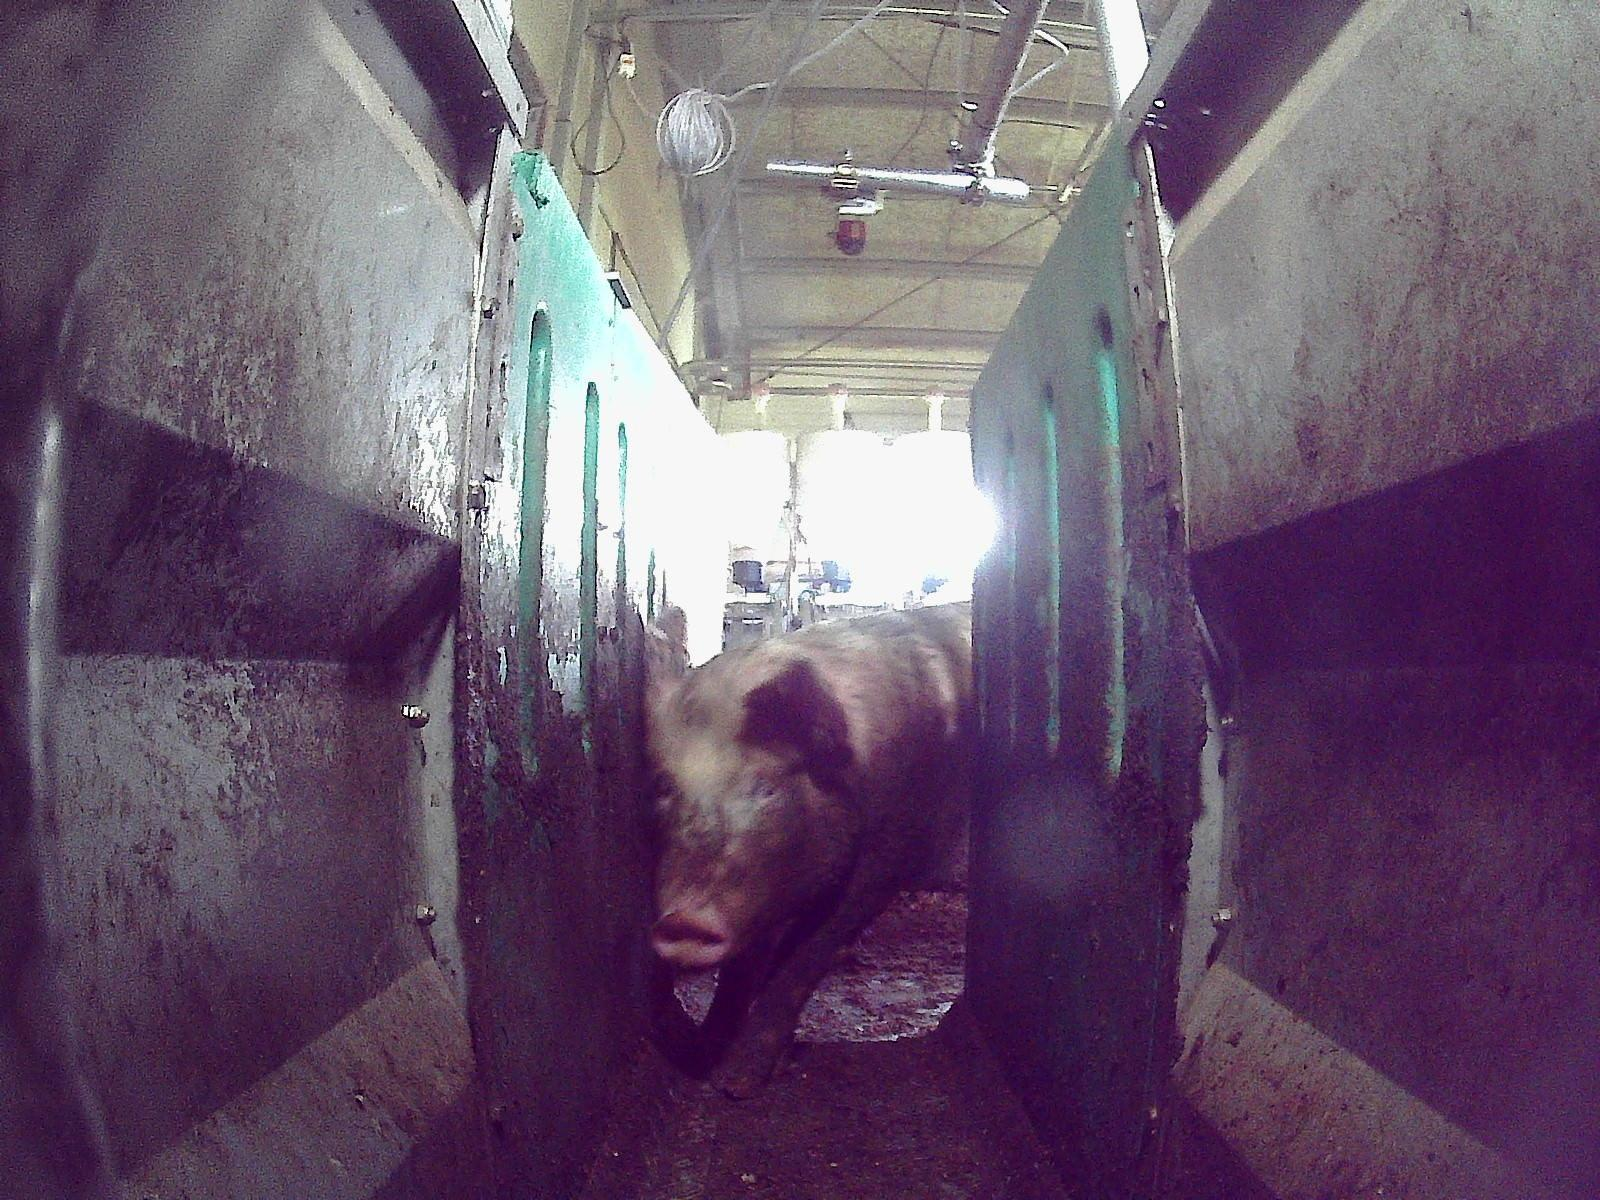Face: (646, 718, 829, 964)
